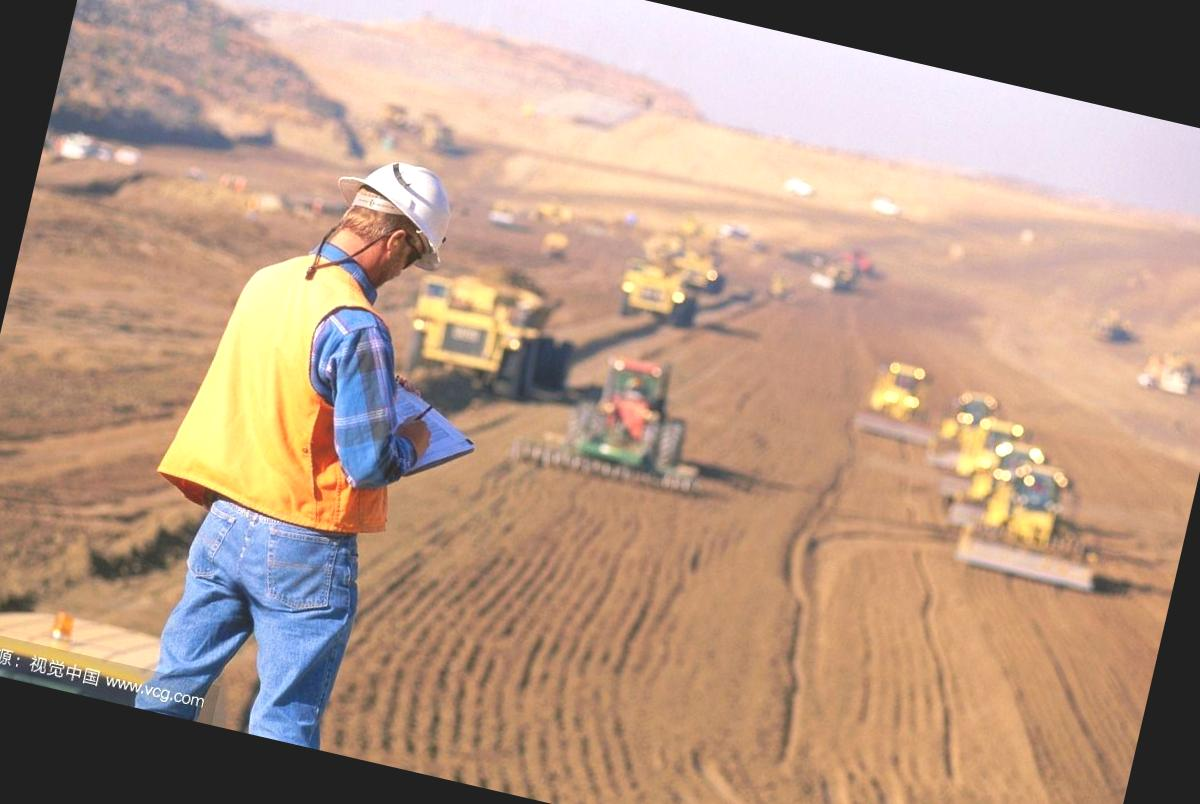helmet: (343, 146, 461, 244)
person: (106, 99, 528, 766)
